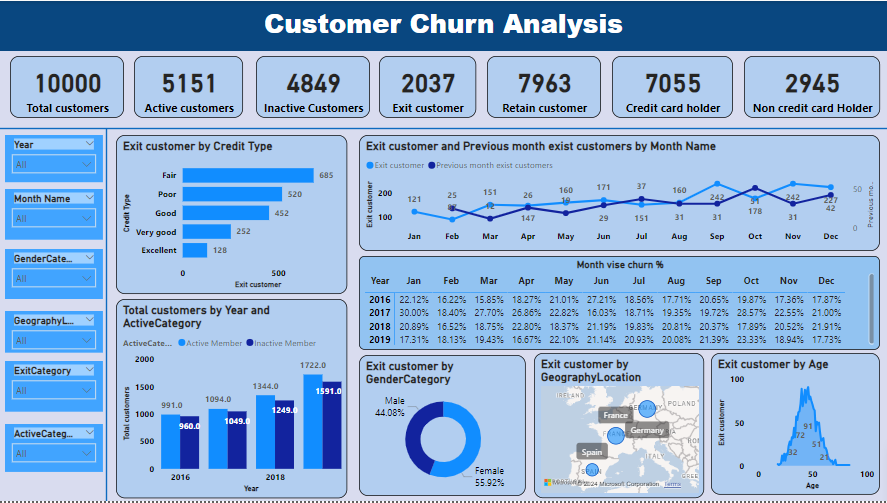

The dashboard page shown, as its layout file describes it:
{"tool":"powerbi","page":{"name":"Page 1","canvas":[1280,720],"ordinal":0},"visuals":[{"type":"card","fields":{"Values":["ActiveCustomer.Total customers"]},"box":[15.8,79.2,164.2,89.3],"z":0},{"type":"card","fields":{"Values":["ActiveCustomer.Active customers"]},"box":[194.4,79.2,157,89.3],"z":1000},{"type":"card","fields":{"Values":["ActiveCustomer.Inactive Customers"]},"box":[370.1,79.2,164.2,89.3],"z":2000},{"type":"card","fields":{"Values":["ExitCustomer.Exit customer"]},"box":[547.2,79.2,139.7,89.3],"z":3000},{"type":"card","fields":{"Values":["ExitCustomer.Retain customer"]},"box":[702.7,79.2,164.2,89.3],"z":4000},{"type":"card","fields":{"Values":["CreditCard.Credit card holder"]},"box":[882.7,79.2,174.2,89.3],"z":5000},{"type":"card","fields":{"Values":["CreditCard.Non credit card Holder"]},"box":[1072.8,79.2,195.8,89.3],"z":6000},{"type":"textbox","box":[0,0,1280,72.2],"z":7000},{"type":"shape","box":[0,184.3,309.6,535.7],"z":8000},{"type":"shape","box":[0,164.2,1280.2,38.9],"z":9000},{"type":"slicer","fields":{"Values":["DateMaster.Year"]},"box":[8.6,193,141.1,67.7],"z":10000},{"type":"slicer","fields":{"Values":["DateMaster.Month Name"]},"box":[8.6,270.7,141.1,73.4],"z":11000},{"type":"slicer","fields":{"Values":["Gender.GenderCategory"]},"box":[8.6,357.1,141.1,72],"z":12000},{"type":"slicer","fields":{"Values":["Geography.GeographyLocation"]},"box":[8.6,446.4,141.1,60.5],"z":13000},{"type":"slicer","fields":{"Values":["ExitCustomer.ExitCategory"]},"box":[8.6,518.4,141.1,73.4],"z":14000},{"type":"slicer","fields":{"Values":["ActiveCustomer.ActiveCategory"]},"box":[8.6,609.1,141.1,69.1],"z":15000},{"type":"clusteredColumnChart","fields":{"Category":["DateMaster.Year"],"Y":["ActiveCustomer.Total customers"],"Series":["ActiveCustomer.ActiveCategory"]},"box":[168.5,429.1,332.6,286.6],"z":16000},{"type":"donutChart","fields":{"Y":["ExitCustomer.Exit customer"],"Category":["Gender.GenderCategory"]},"box":[518.4,509.8,240.5,203],"z":17000},{"type":"barChart","fields":{"Y":["ExitCustomer.Exit customer"],"Category":["Bank_Churn.Credit Type"]},"box":[168.5,193,332.6,229],"z":18000},{"type":"lineChart","fields":{"Category":["DateMaster.Month Name"],"Y":["ExitCustomer.Exit customer"],"Y2":["calculation.Previous month exist customers"]},"box":[518.4,193,750.2,167],"z":19000},{"type":"stackedAreaChart","fields":{"Category":["Bank_Churn.Age"],"Y":["ExitCustomer.Exit customer"]},"box":[1025.3,506.9,243.4,204.5],"z":20000},{"type":"pivotTable","title":"Month vise churn %","fields":{"Rows":["DateMaster.Year"],"Columns":["DateMaster.Month Name"],"Values":["calculation.Churn %"]},"box":[518.4,367.2,750.2,135.4],"z":21000},{"type":"map","fields":{"Category":["Geography.GeographyLocation"],"Size":["ExitCustomer.Exit customer"]},"box":[770.4,506.9,244.8,208.8],"z":22000}]}

Visuals, with their boxes in screenshot pixels (x1, y1, x2, y2), scaled from the page's 1280x720 canvas onto the 887x503 screenshot:
card - ActiveCustomer.Total customers: locate(11, 55, 125, 118)
card - ActiveCustomer.Active customers: locate(135, 55, 244, 118)
card - ActiveCustomer.Inactive Customers: locate(256, 55, 370, 118)
card - ExitCustomer.Exit customer: locate(379, 55, 476, 118)
card - ExitCustomer.Retain customer: locate(487, 55, 601, 118)
card - CreditCard.Credit card holder: locate(612, 55, 732, 118)
card - CreditCard.Non credit card Holder: locate(743, 55, 879, 118)
textbox: locate(0, 0, 886, 50)
shape: locate(0, 129, 215, 502)
shape: locate(0, 115, 886, 142)
slicer - DateMaster.Year: locate(6, 135, 104, 182)
slicer - DateMaster.Month Name: locate(6, 189, 104, 240)
slicer - Gender.GenderCategory: locate(6, 249, 104, 300)
slicer - Geography.GeographyLocation: locate(6, 312, 104, 354)
slicer - ExitCustomer.ExitCategory: locate(6, 362, 104, 413)
slicer - ActiveCustomer.ActiveCategory: locate(6, 426, 104, 474)
clusteredColumnChart - DateMaster.Year x ActiveCustomer.Total customers: locate(117, 300, 347, 500)
donutChart - ExitCustomer.Exit customer x Gender.GenderCategory: locate(359, 356, 526, 498)
barChart - ExitCustomer.Exit customer x Bank_Churn.Credit Type: locate(117, 135, 347, 295)
lineChart - DateMaster.Month Name x ExitCustomer.Exit customer: locate(359, 135, 879, 252)
stackedAreaChart - Bank_Churn.Age x ExitCustomer.Exit customer: locate(711, 354, 879, 497)
"Month vise churn %" pivotTable: locate(359, 257, 879, 351)
map - Geography.GeographyLocation x ExitCustomer.Exit customer: locate(534, 354, 704, 500)
